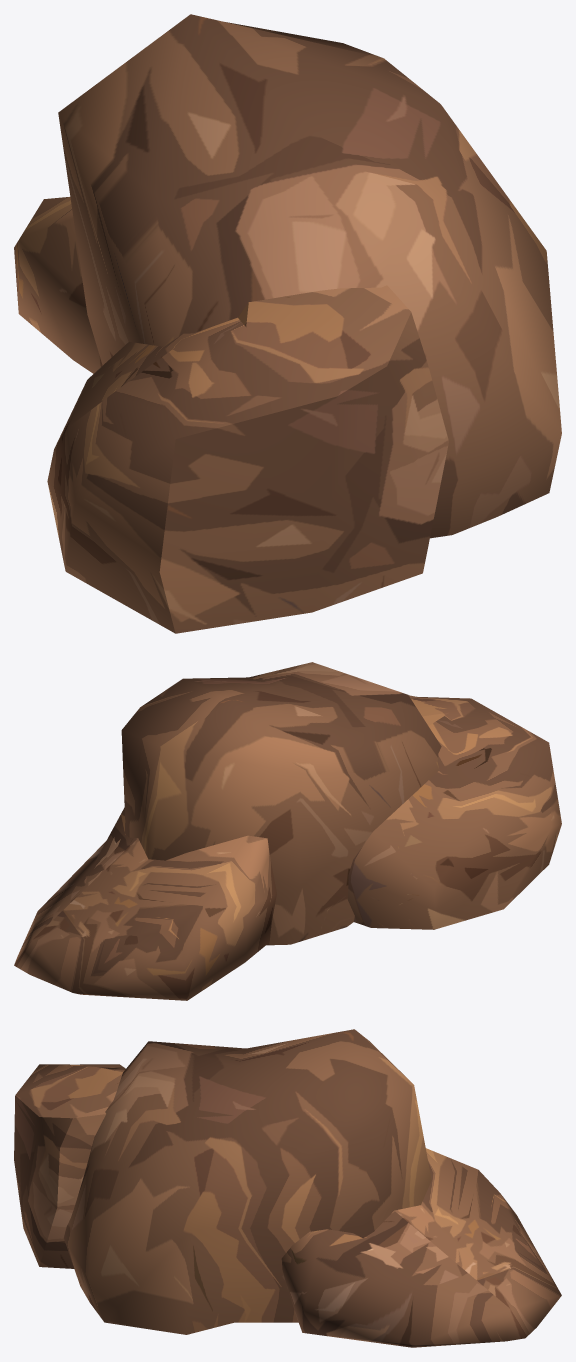
Rendered from rock_2.FBX.
3 views of the same model, one above another, from view 1: azimuth 30°, elevation 25°; view 2: azimuth 150°, elevation 25°; view 3: azimuth 270°, elevation 25° (orthographic). The views are drawn at different scales.
Visible parts, largest first — view 1: rock_2; view 2: rock_2; view 3: rock_2.
Part boxes in pixels (left/top/right/bottom): rock_2: left=14, top=14, right=561, bottom=633; rock_2: left=14, top=662, right=561, bottom=1000; rock_2: left=14, top=1029, right=561, bottom=1347.
Size of the model in its own units: 11.55 by 14.85 by 7.23.
1 material, 1 textured.
